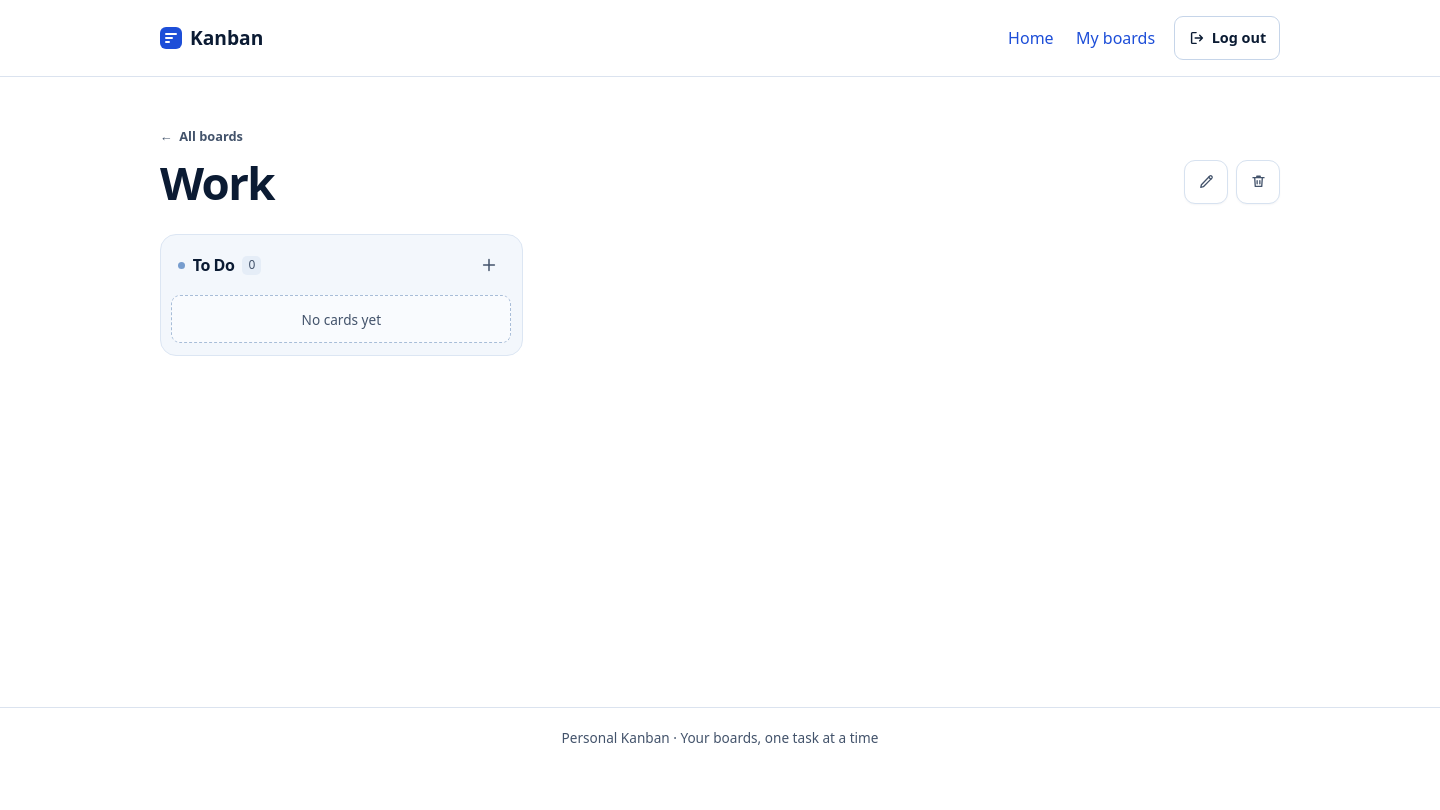
it: board and card operations › closes a committed create form when the following reload fails and only retries GET
Expected: the heading "Work" is shown, [160, 159, 274, 206]
Click the button named "Add card to To Do" at coordinates (489, 265), box [467, 243, 511, 287]
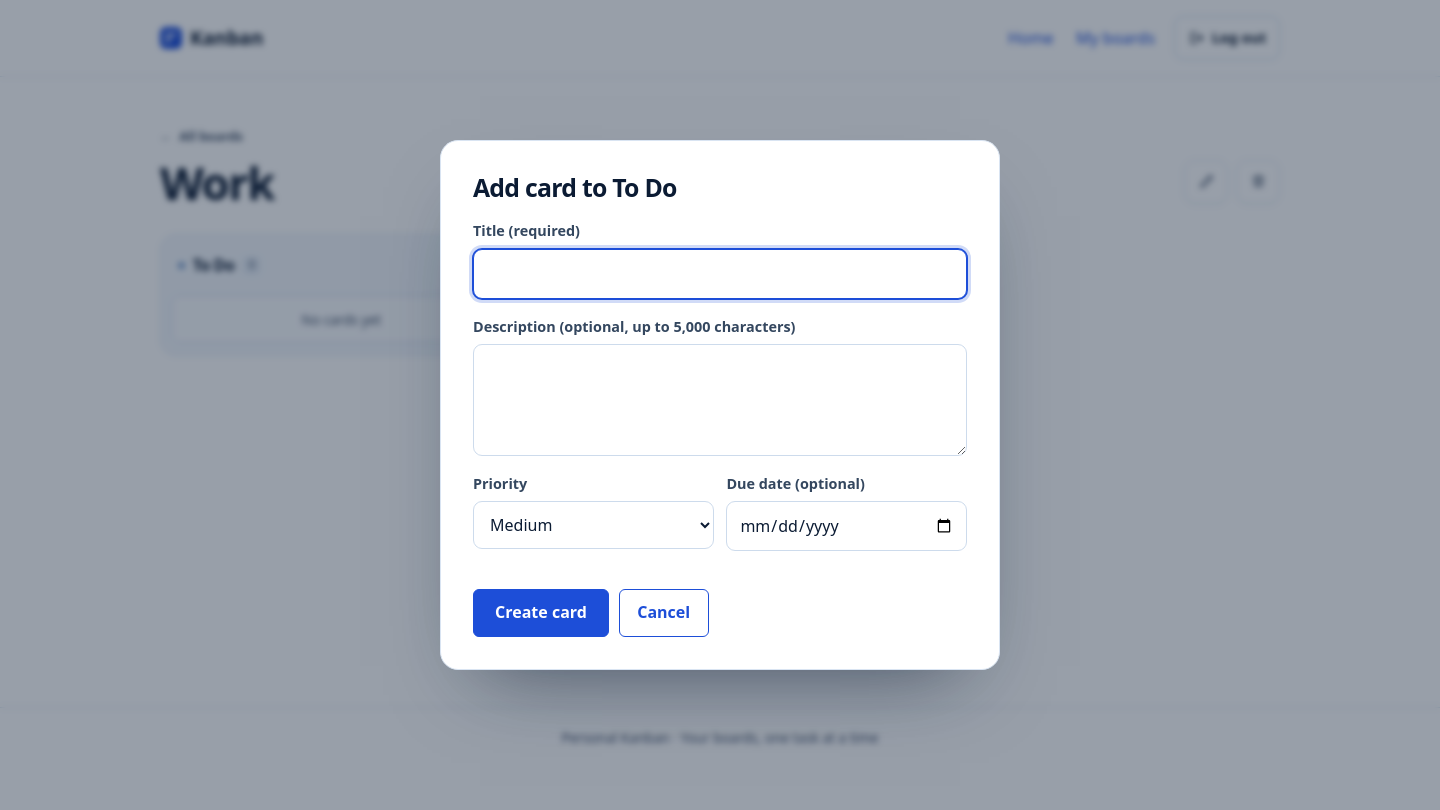
Type "Committed task" into the field labelled "Title (required)" at coordinates (720, 274), box [473, 249, 967, 299]
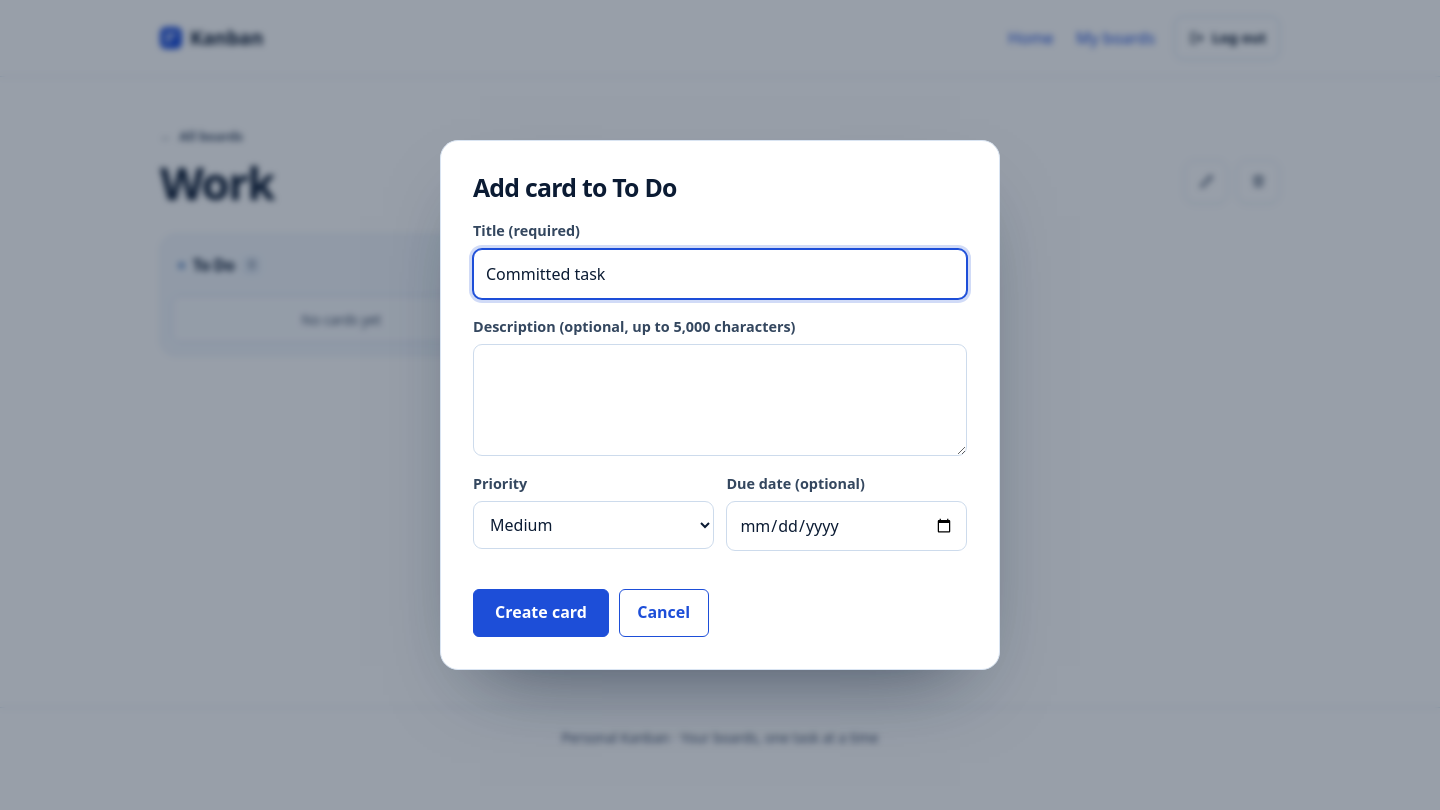
Submit the form named "Add card to To Do", box [473, 220, 967, 637]
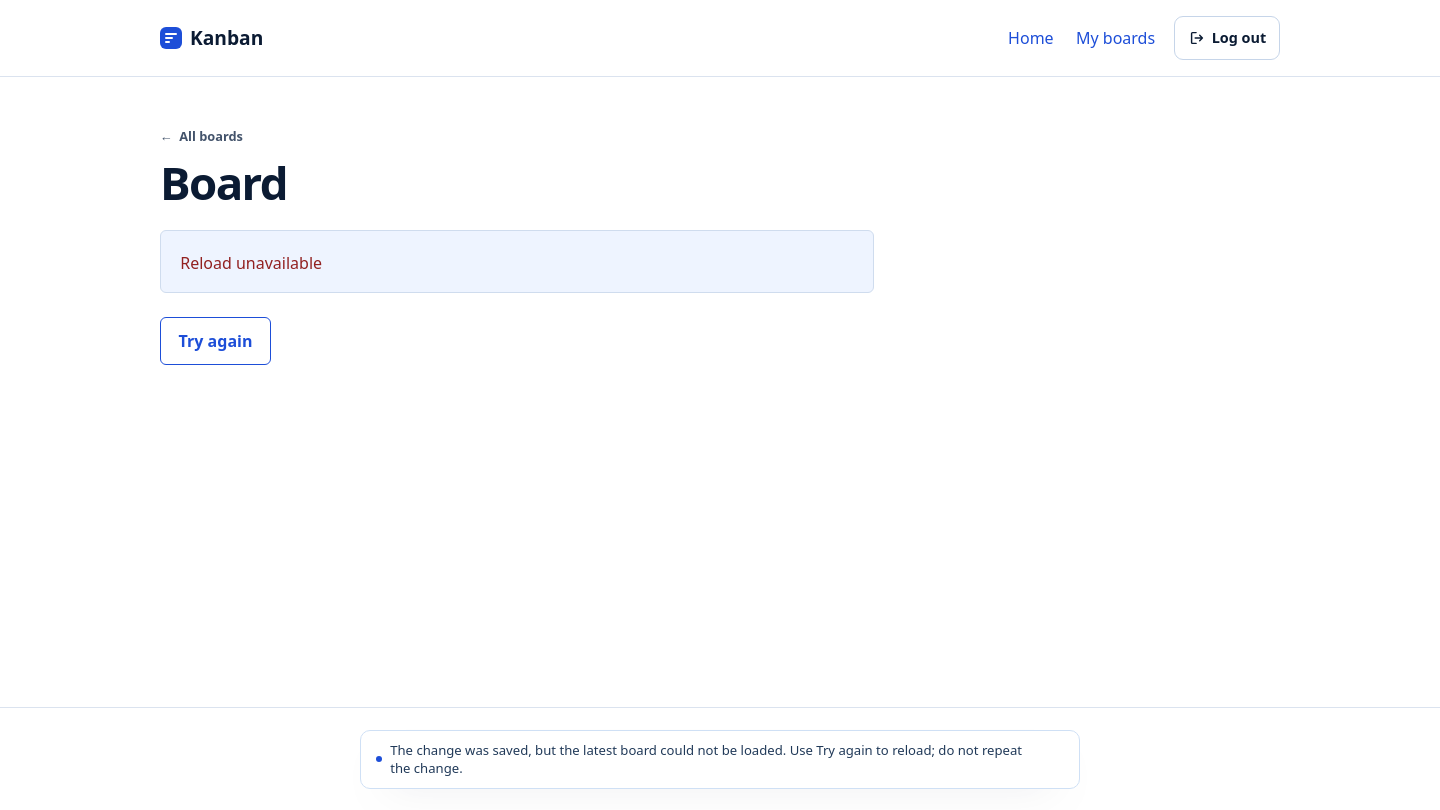
Result: the message reads "Reload unavailable" at [180, 252, 322, 274]
Result: the button "Create card" is gone
Result: the message named "Board activity" shows "change was saved" at [390, 741, 1022, 778]
Click the button "Try again" at coordinates (216, 341), box [160, 317, 271, 365]
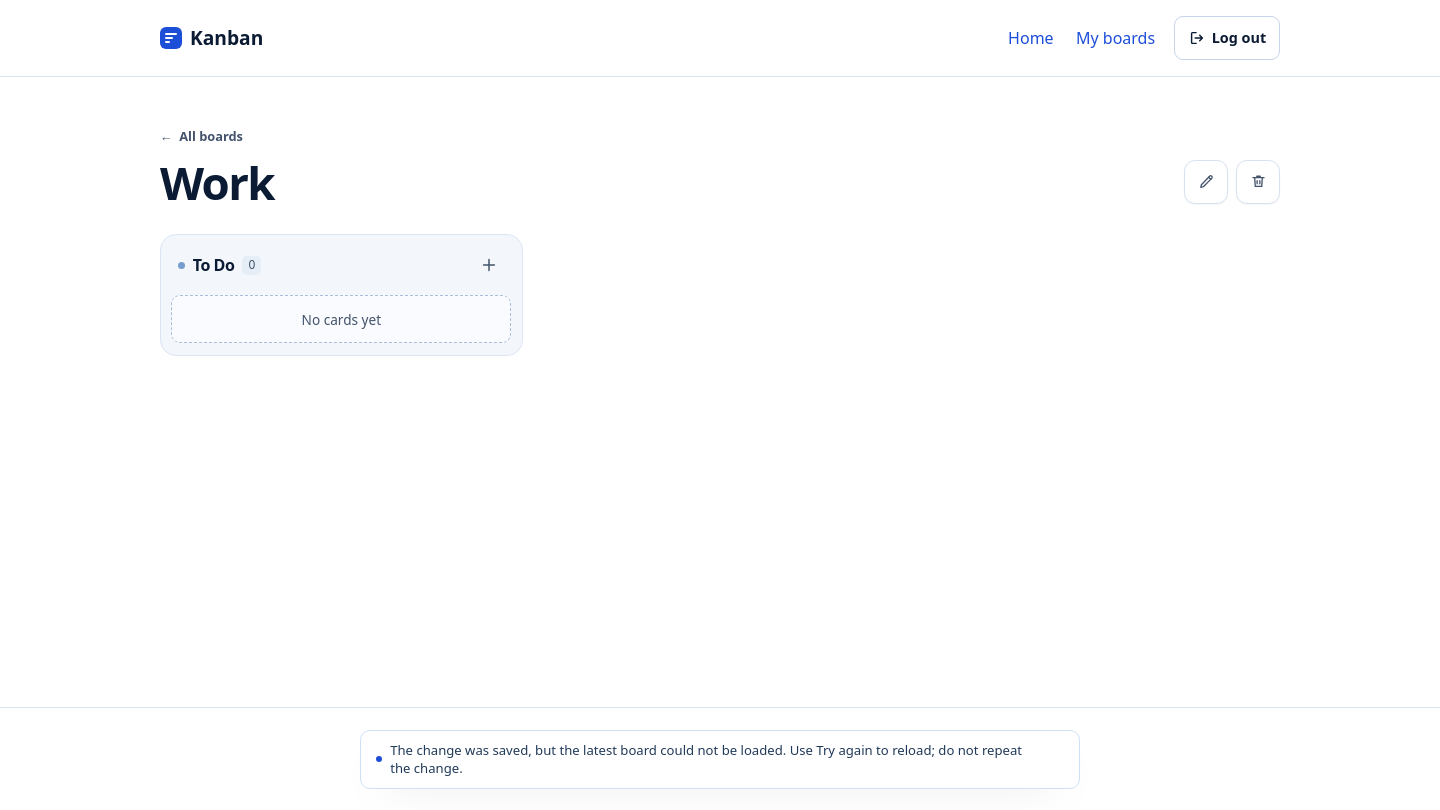
Result: the heading "Work" is shown at [160, 159, 274, 206]
